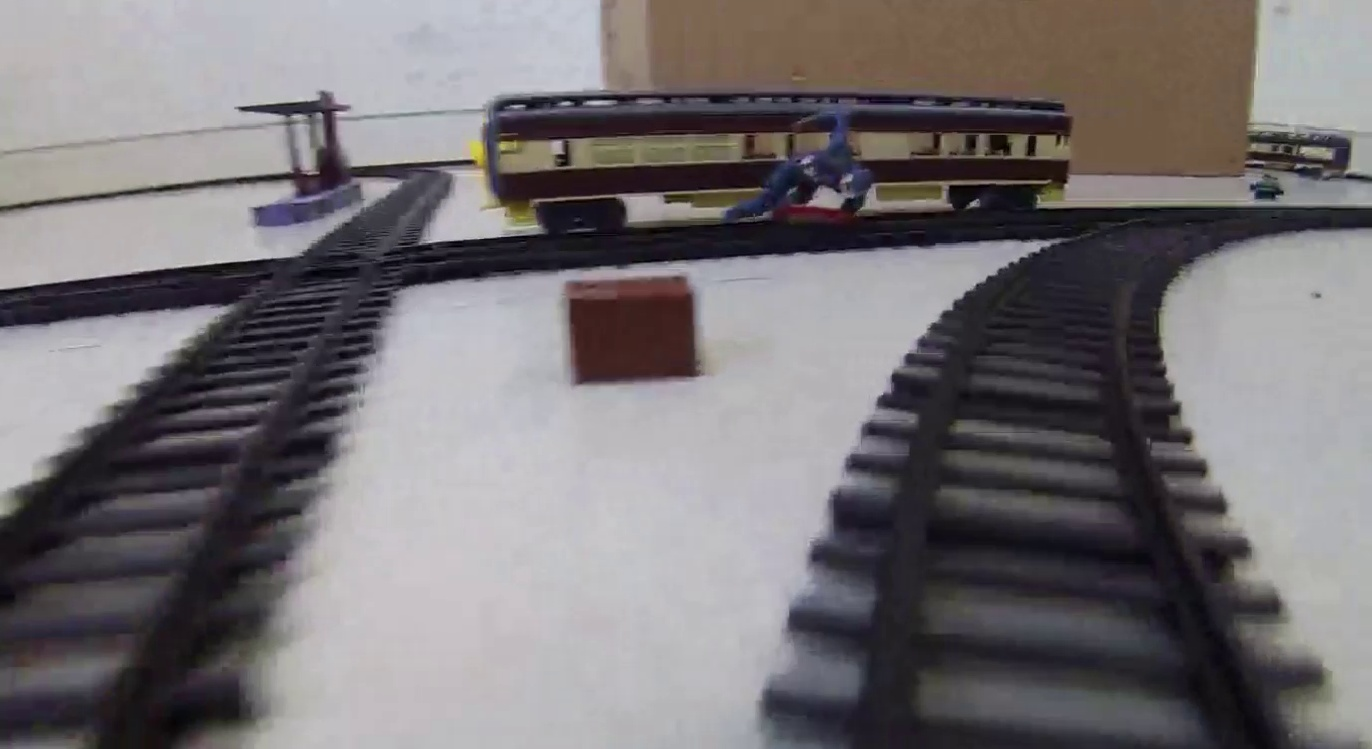box: (563, 277, 700, 383)
people: (723, 112, 874, 221)
